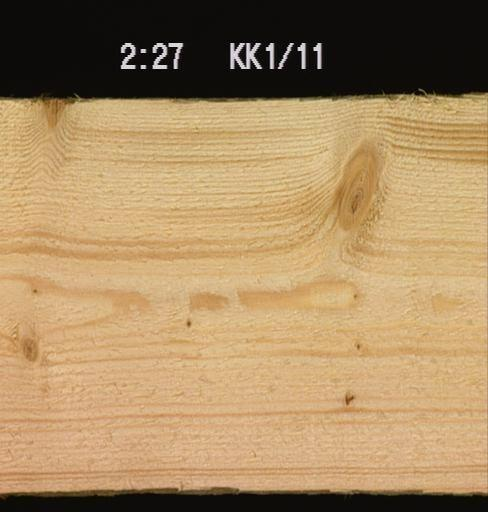small_knot: (333, 384, 364, 410), (338, 280, 368, 305), (347, 334, 365, 360), (25, 279, 45, 297), (182, 313, 200, 331)
sound_knot: (11, 323, 48, 366)
